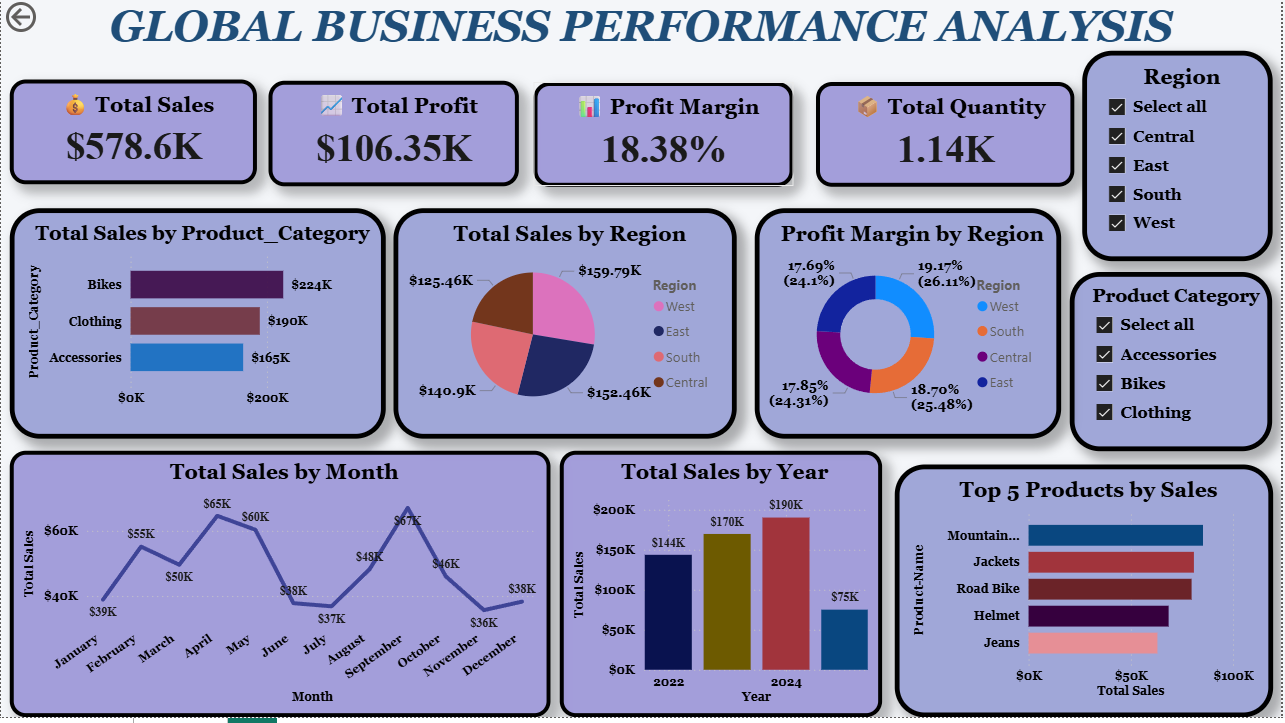

The page's visual inventory and layout, read from the dashboard file:
{"tool":"powerbi","page":{"name":"Page 1","canvas":[1280,720],"ordinal":0},"visuals":[{"type":"textbox","box":[0,0,1280,79.6],"z":0},{"type":"card","title":"💰 Total Sales","fields":{"Values":["global_business_data.Total Sales"]},"box":[8.7,82.1,247.5,104.5],"z":1000},{"type":"card","title":"📈 Total Profit","fields":{"Values":["global_business_data.Total Profit"]},"box":[267.5,83.3,250,105.7],"z":2000},{"type":"card","title":"📊 Profit Margin","fields":{"Values":["global_business_data.Profit Margin"]},"box":[532.4,84.6,260,104.5],"z":3000},{"type":"card","title":"📦 Total Quantity","fields":{"Values":["global_business_data.Total Quantity"]},"box":[814.8,84.6,258.7,104.5],"z":4000},{"type":"clusteredBarChart","fields":{"Y":["global_business_data.Total Sales"],"Category":["global_business_data.Product_Category"]},"box":[8.7,211.5,375.7,230.1],"z":5000},{"type":"pieChart","fields":{"Category":["global_business_data.Region"],"Y":["global_business_data.Total Sales"]},"box":[393.1,211.5,343.3,230.1],"z":6000},{"type":"lineChart","fields":{"Category":["global_business_data.Order_Date.Variation.Date Hierarchy.Month"],"Y":["global_business_data.Total Sales"]},"box":[8.7,454,541.1,266.2],"z":7000},{"type":"slicer","title":"Region","fields":{"Values":["global_business_data.Region"]},"box":[1081.7,53.3,190,210],"z":8000},{"type":"slicer","title":"Product Category","fields":{"Values":["global_business_data.Product_Category"]},"box":[1068.6,274.9,202.8,179.1],"z":9000},{"type":"clusteredColumnChart","fields":{"Category":["global_business_data.Order_Date.Variation.Date Hierarchy.Year","global_business_data.Order_Date.Variation.Date Hierarchy.Quarter"],"Y":["global_business_data.Total Sales"]},"box":[558.5,454,322.2,266.2],"z":10000},{"type":"actionButton","box":[0,0,100,40],"z":11000},{"type":"donutChart","fields":{"Category":["global_business_data.Region"],"Y":["global_business_data.Profit Margin"]},"box":[753.8,211.5,306,230.1],"z":12000},{"type":"clusteredBarChart","title":"Top 5 Products by Sales","fields":{"Category":["global_business_data.Product_Name"],"Y":["global_business_data.Total Sales"]},"box":[893.2,467.7,378.2,252.5],"z":13000}]}

Visuals, with their boxes in screenshot pixels (x1, y1, x2, y2), scaled from the page's 1280x720 canvas onto the 1285x723 screenshot:
textbox: (left=0, top=0, right=1284, bottom=80)
"💰 Total Sales" card: (left=9, top=82, right=257, bottom=187)
"📈 Total Profit" card: (left=269, top=84, right=520, bottom=190)
"📊 Profit Margin" card: (left=534, top=85, right=795, bottom=190)
"📦 Total Quantity" card: (left=818, top=85, right=1078, bottom=190)
clusteredBarChart - global_business_data.Total Sales x global_business_data.Product_Category: (left=9, top=212, right=386, bottom=443)
pieChart - global_business_data.Region x global_business_data.Total Sales: (left=395, top=212, right=739, bottom=443)
lineChart - global_business_data.Order_Date.Variation.Date Hierarchy.Month x global_business_data.Total Sales: (left=9, top=456, right=552, bottom=722)
"Region" slicer: (left=1086, top=54, right=1277, bottom=264)
"Product Category" slicer: (left=1073, top=276, right=1276, bottom=456)
clusteredColumnChart - global_business_data.Order_Date.Variation.Date Hierarchy.Year x global_business_data.Order_Date.Variation.Date Hierarchy.Quarter: (left=561, top=456, right=884, bottom=722)
actionButton: (left=0, top=0, right=100, bottom=40)
donutChart - global_business_data.Region x global_business_data.Profit Margin: (left=757, top=212, right=1064, bottom=443)
"Top 5 Products by Sales" clusteredBarChart: (left=897, top=470, right=1276, bottom=722)
